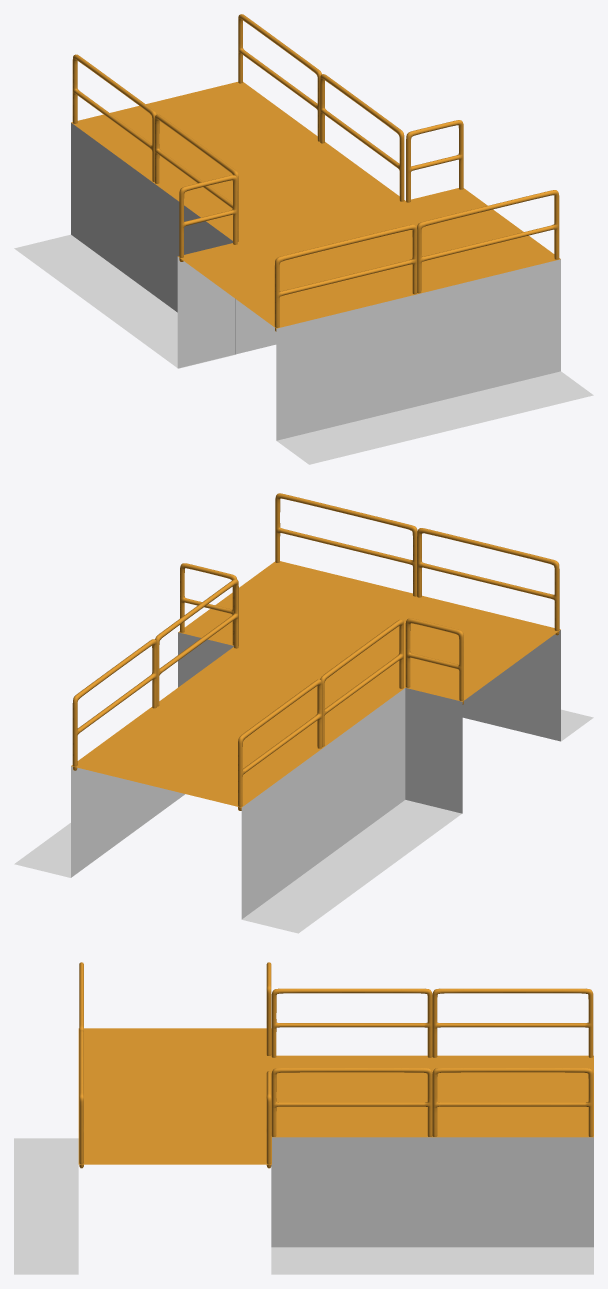
Rendered from Uebergang_Kreuzung.fbx.
The picture shows the model from 3 angles, top to bottom: view 1: azimuth 30°, elevation 25°; view 2: azimuth 150°, elevation 25°; view 3: azimuth 270°, elevation 25°; orthographic projection.
Parts seen in each view (by area): view 1: Plane.015, Plane.010, Plane.017, Plane.018, Plane.012, Plane.011, Plane.013, Plane.009, Plane.014, Plane.016; view 2: Plane.010, Plane.015, Plane.017, Plane.018, Plane.013, Plane.011, Plane.009, Plane.012, Plane.014, Plane.016; view 3: Plane.010, Plane.015, Plane.011, Plane.009, Plane.012, Plane.013, Plane.018, Plane.016, Plane.014.
Part boxes in pixels (bbox=[...]): Plane.015: bbox=[177, 188, 593, 464]; Plane.010: bbox=[14, 82, 405, 368]; Plane.017: bbox=[274, 224, 417, 331]; Plane.018: bbox=[417, 190, 559, 293]; Plane.012: bbox=[320, 74, 404, 201]; Plane.011: bbox=[72, 54, 156, 181]; Plane.013: bbox=[238, 14, 321, 141]; Plane.009: bbox=[154, 114, 238, 241]; Plane.014: bbox=[179, 175, 237, 261]; Plane.016: bbox=[406, 120, 463, 202]; Plane.010: bbox=[14, 647, 461, 933]; Plane.015: bbox=[178, 561, 593, 813]; Plane.017: bbox=[417, 528, 559, 635]; Plane.018: bbox=[275, 493, 417, 596]; Plane.013: bbox=[72, 639, 156, 770]; Plane.011: bbox=[238, 679, 322, 810]; Plane.009: bbox=[320, 619, 403, 746]; Plane.012: bbox=[155, 579, 238, 706]; Plane.014: bbox=[405, 618, 463, 704]; Plane.016: bbox=[180, 563, 237, 645]; Plane.010: bbox=[271, 1055, 593, 1274]; Plane.015: bbox=[14, 1028, 271, 1274]; Plane.011: bbox=[432, 988, 593, 1057]; Plane.009: bbox=[271, 988, 432, 1057]; Plane.012: bbox=[271, 1068, 432, 1136]; Plane.013: bbox=[432, 1068, 593, 1136]; Plane.018: bbox=[79, 1030, 83, 1168]; Plane.016: bbox=[266, 1071, 271, 1168]; Plane.014: bbox=[266, 962, 271, 1055].
Bounding box in the file's own units: 200 × 122 × 360.
